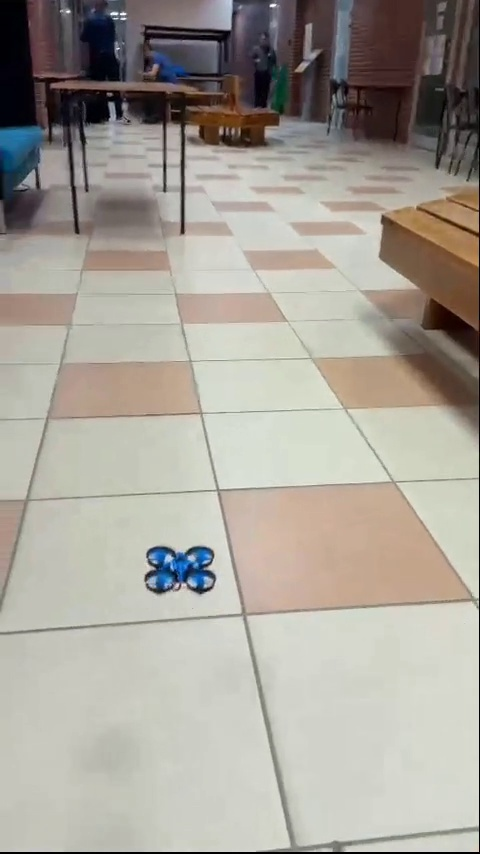drone: (144, 547, 216, 596)
no vest: (86, 3, 131, 126), (248, 19, 285, 126), (138, 43, 188, 96)
